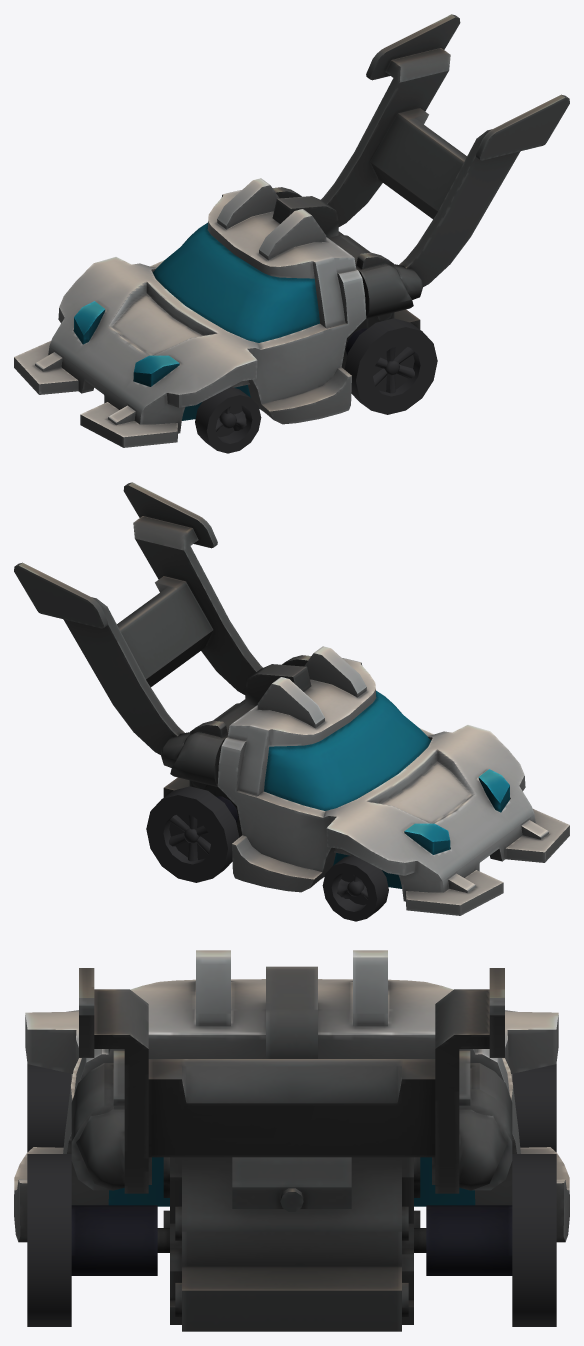
File: Car_Kinder1_0001.FBX
3 renders of one model, top to bottom at view 1: azimuth 30°, elevation 25°; view 2: azimuth 150°, elevation 25°; view 3: azimuth 270°, elevation 25°, orthographic. The views are drawn at different scales.
Visible parts, largest first — view 1: Car1_Kinder_LP_1_1, Car1_Wheels_4, Car1_Wheels_2; view 2: Car1_Kinder_LP_1_1, Car1_Wheels_3, Car1_Wheels_1; view 3: Car1_Kinder_LP_1_1, Car1_Wheels_3, Car1_Wheels_4, Car1_Wheels_1, Car1_Wheels_2.
Part boxes in pixels (box(x1,y1,x2,y2)): Car1_Kinder_LP_1_1: box(14, 14, 569, 447); Car1_Wheels_4: box(344, 318, 437, 414); Car1_Wheels_2: box(195, 387, 261, 453); Car1_Kinder_LP_1_1: box(14, 482, 569, 915); Car1_Wheels_3: box(146, 786, 239, 882); Car1_Wheels_1: box(322, 855, 388, 921); Car1_Kinder_LP_1_1: box(14, 950, 569, 1331); Car1_Wheels_3: box(512, 1154, 556, 1326); Car1_Wheels_4: box(27, 1154, 71, 1326); Car1_Wheels_1: box(512, 1064, 556, 1151); Car1_Wheels_2: box(27, 1064, 71, 1151).
Bounding box in the file's own units: 33.22 × 18.85 × 18.24.
2 materials, 1 textured.
